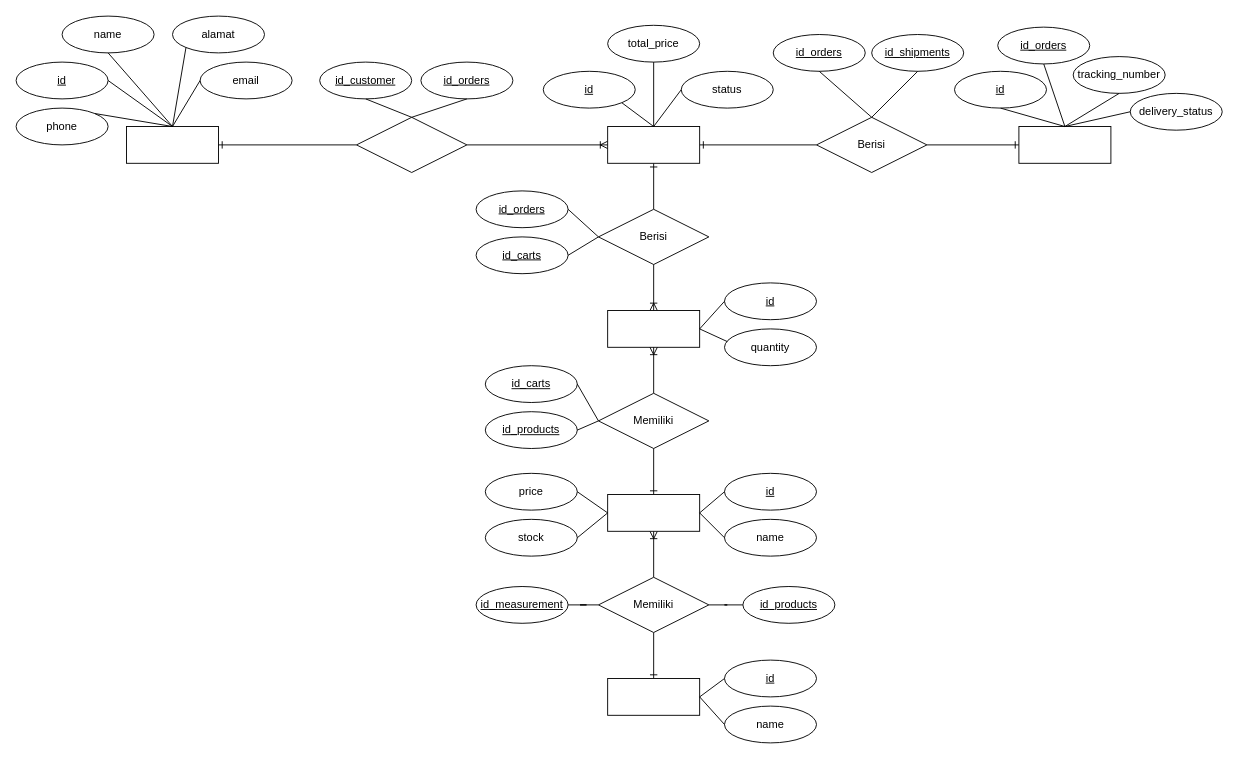
This 1238x759 diagram has some shape labels left out. The shapes that lost their labels are listed below. From the top down, each one's centre as x and y in pixels, then its label:
At (x=172, y=144): "customers".
At (x=411, y=144): "Membuat".
At (x=653, y=144): "orders".
At (x=1064, y=144): "shipments".
At (x=653, y=328): "carts".
At (x=653, y=512): "products".
At (x=653, y=696): "measurement".
